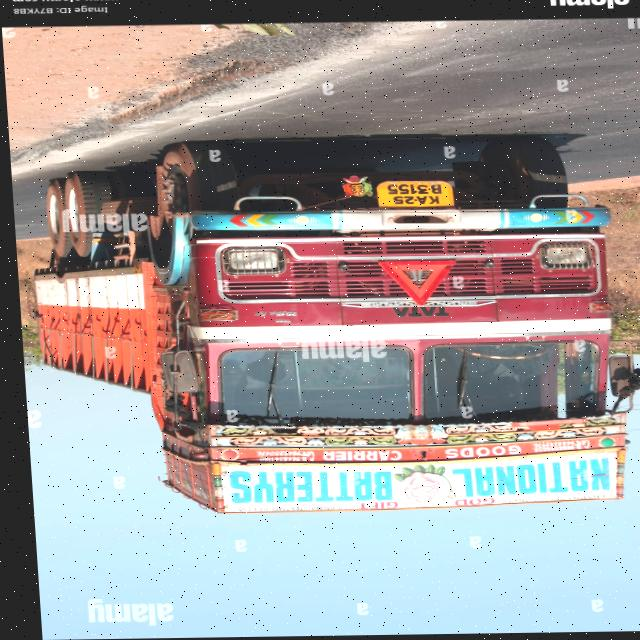plate: (369, 179, 458, 212)
